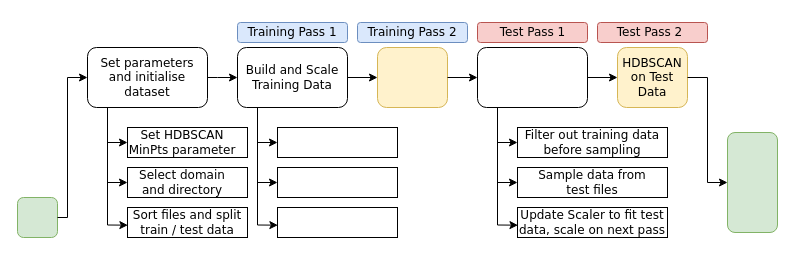
This 795x262 diagram has some shape labels left out. The shapes that lost their labels are listed below. From the top down, each one's centre as x and y in pixels, then its label:
(412,77): Train HDBSCAN Model
(532,77): Build and Scale Test Data
(337,142): Sample data from training files
(337,182): Apply scaler object to fit data
(752,182): Save Clusters and Plot Final Figure
(37,217): Start
(337,222): Concatenate and transform data
